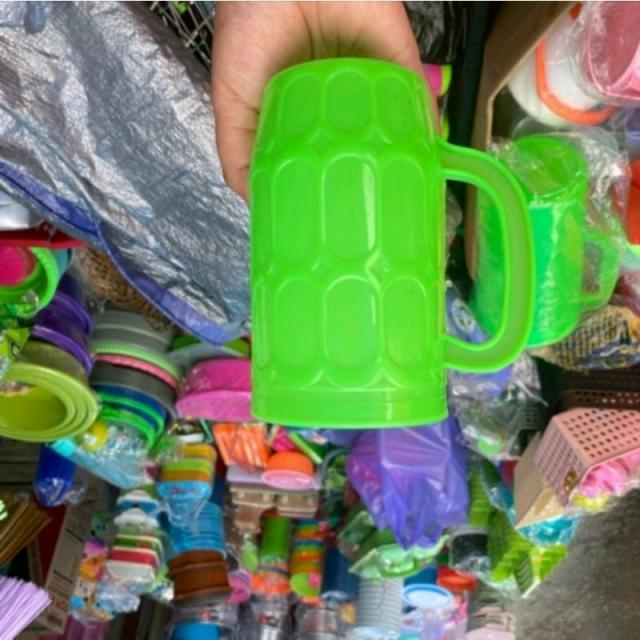Cangkir: (238, 45, 550, 445), (467, 123, 626, 386)
